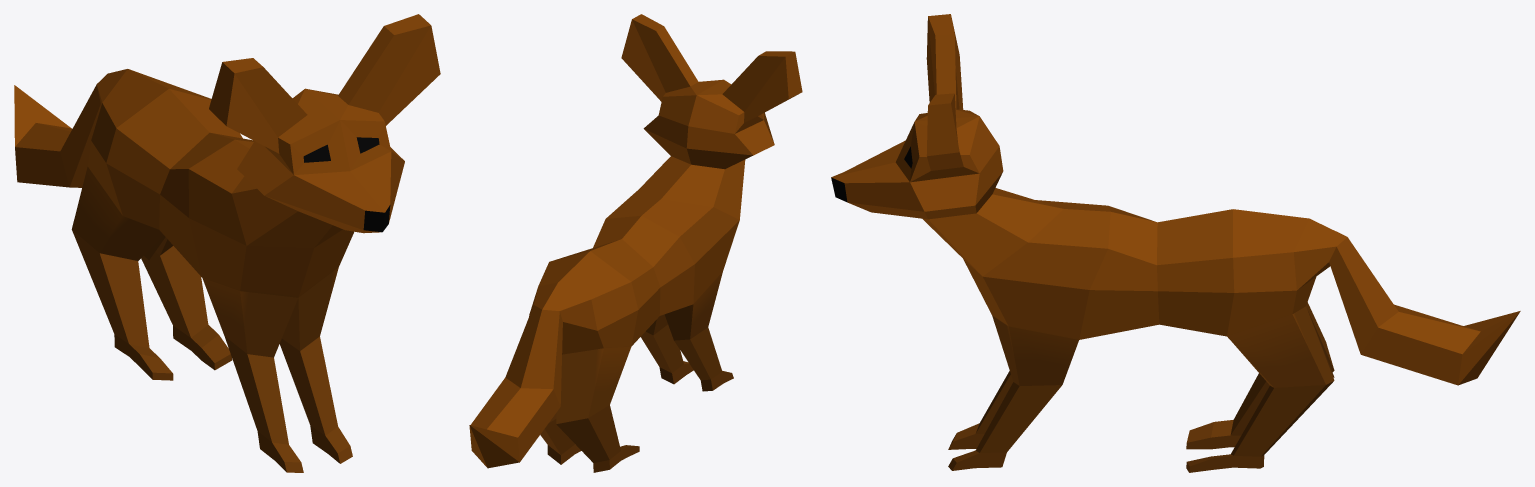
File: fox.glb
3 renders of one model, left to right at view 1: azimuth 30°, elevation 25°; view 2: azimuth 150°, elevation 25°; view 3: azimuth 270°, elevation 25°, orthographic. The views are drawn at different scales.
Parts seen in each view (by area): view 1: Cube.001; view 2: Cube.001; view 3: Cube.001.
Part boxes in pixels (box(x1,y1,x2,y2)): Cube.001: box(14, 14, 440, 472); Cube.001: box(469, 14, 802, 472); Cube.001: box(831, 14, 1520, 472).
Bounding box in the file's own units: 0.3555 × 0.6822 × 1.07.
Materials: 1 (1 with a texture image).
